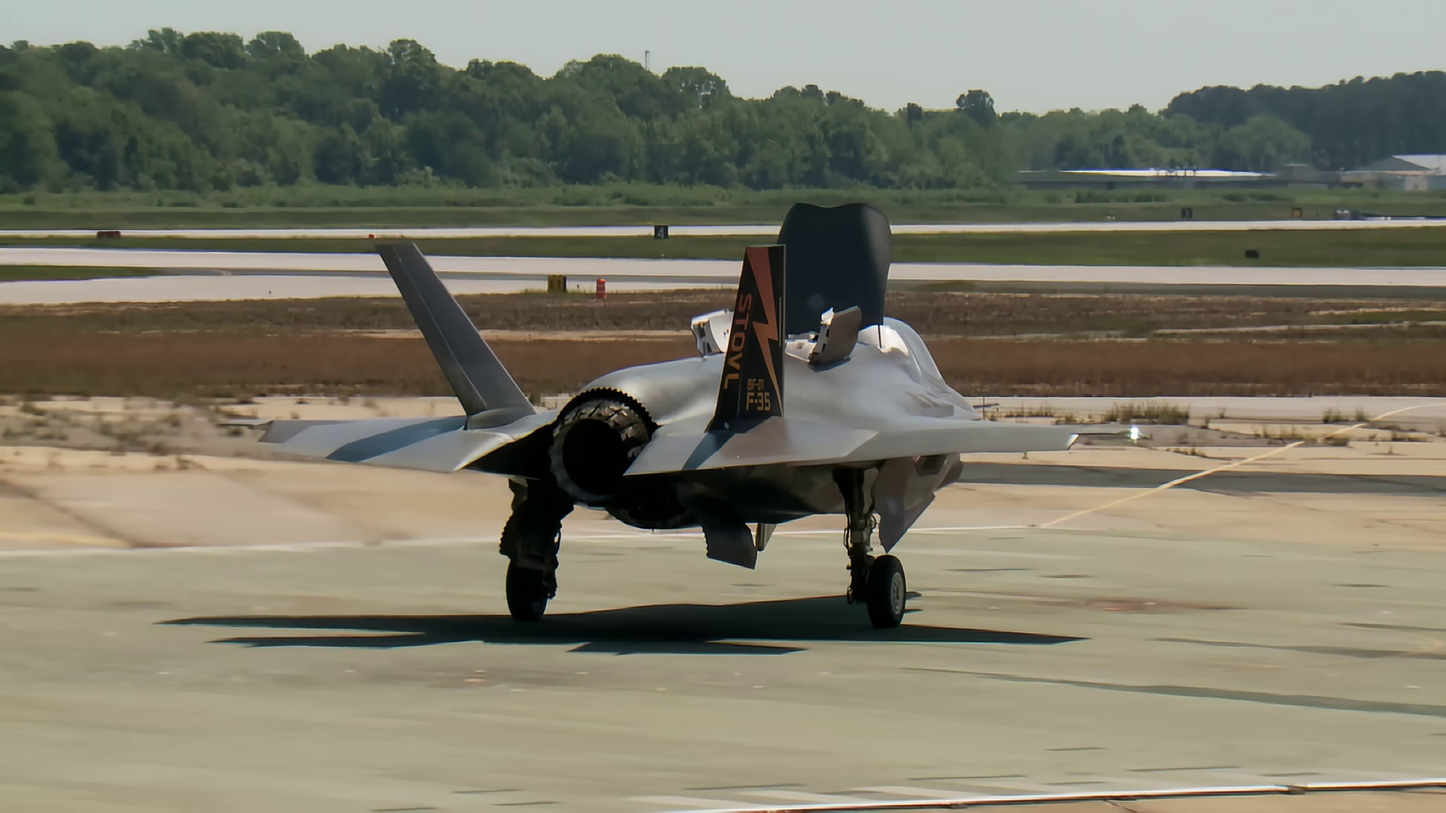F35: (257, 186, 1151, 640)
